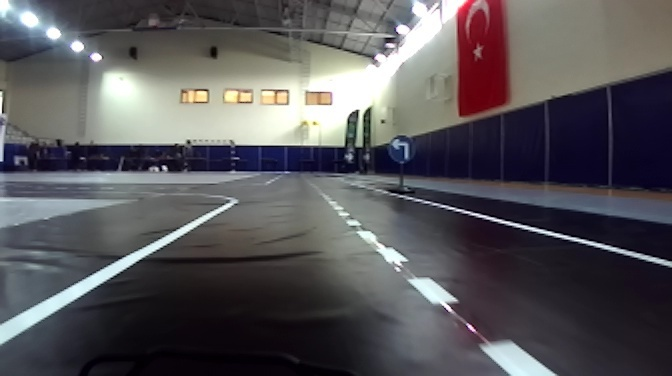sola_donus: (388, 133, 418, 162)
